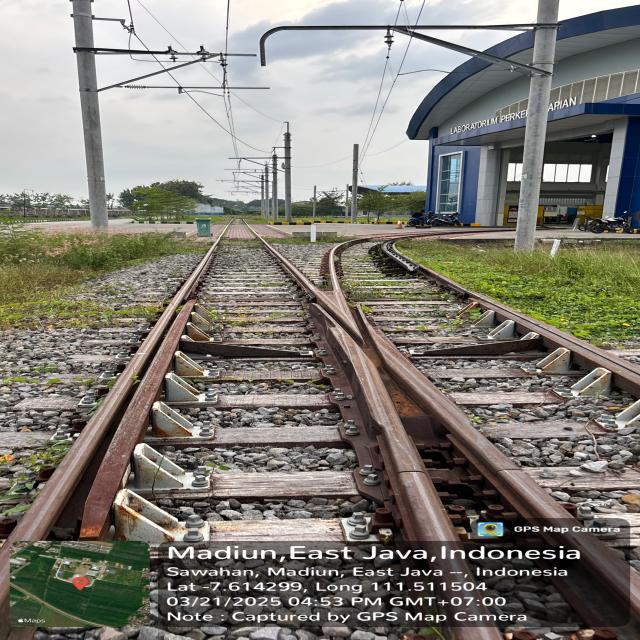rail-detection: (263, 241, 635, 640), (0, 266, 201, 562), (381, 238, 640, 397), (38, 300, 194, 540), (261, 238, 360, 340), (171, 220, 233, 310), (80, 479, 119, 539), (328, 241, 349, 294)
